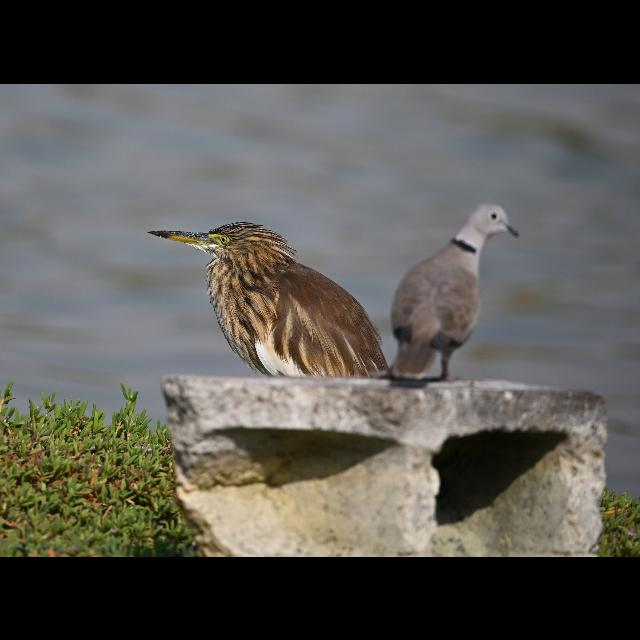heron: (142, 216, 388, 380)
